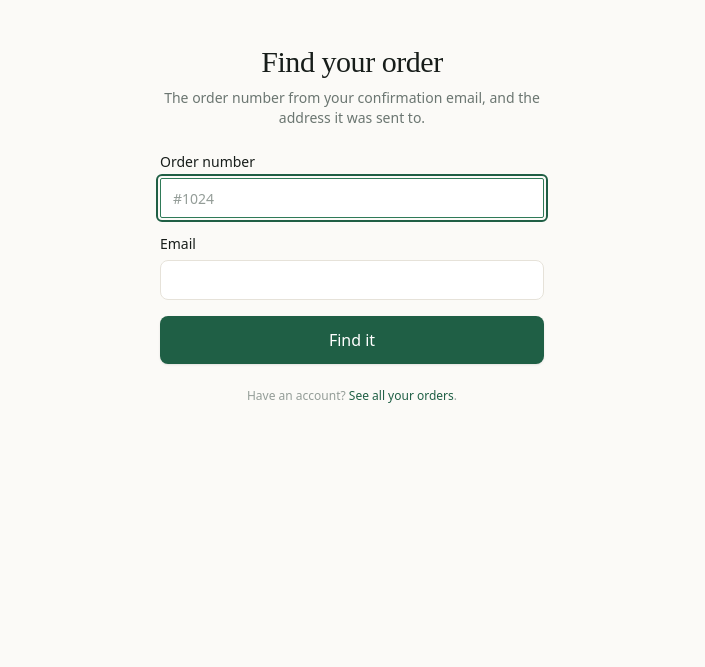
Test: returning › shows the server’s own reason when nothing can go back
Type "#1001" into the field labelled "Order number".
click(352, 198); type("#1001")  # box [160,178,544,218]
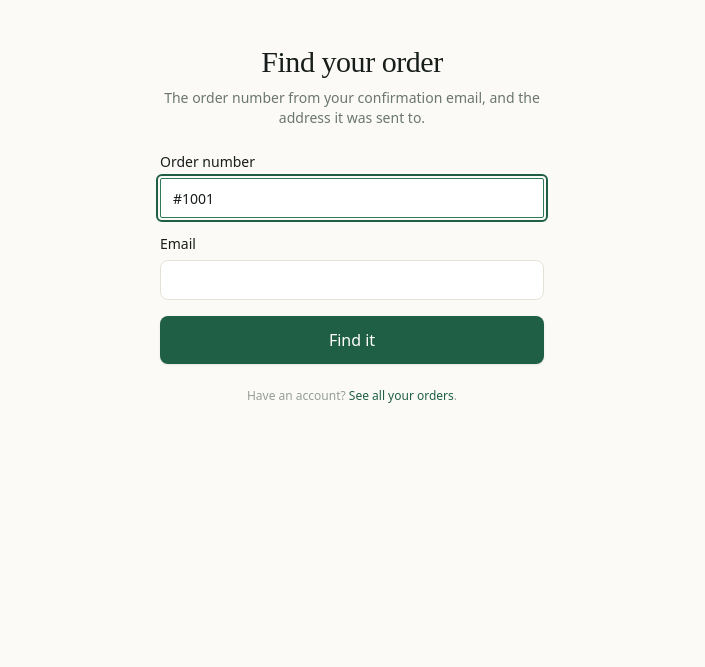
Type "shopper@example.test" into the field labelled "Email".
click(352, 280); type("shopper@example.test")  # box [160,260,544,300]
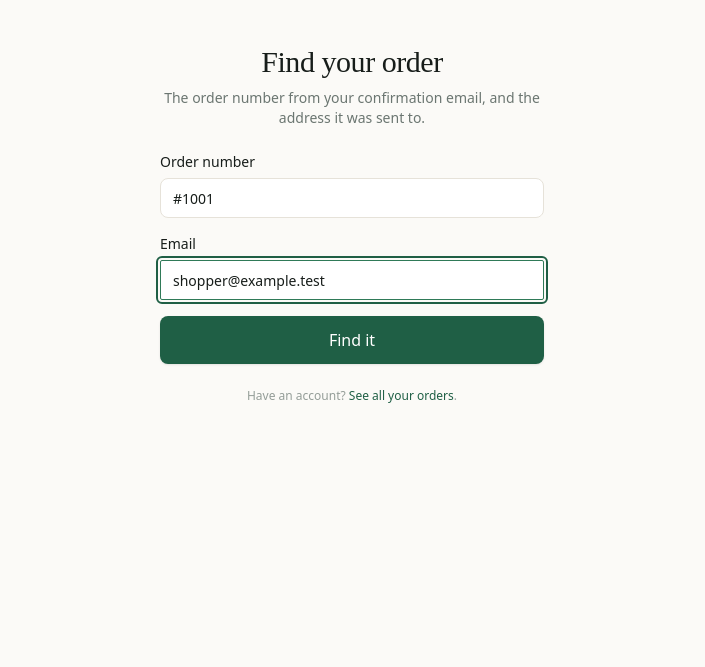
Click the button "Find it".
click(352, 340)  # box [160,316,544,364]
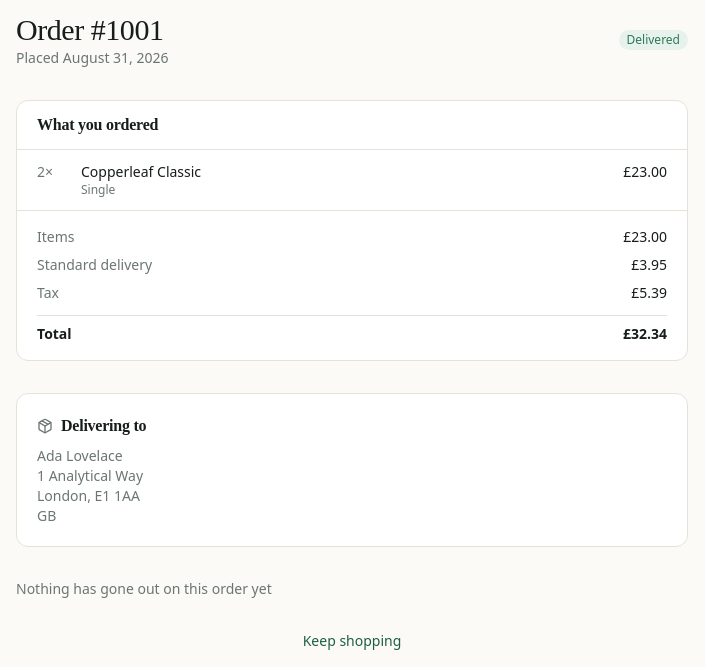
Expected: the text "Nothing has gone out on this order yet" is shown, [16,579,272,598]
